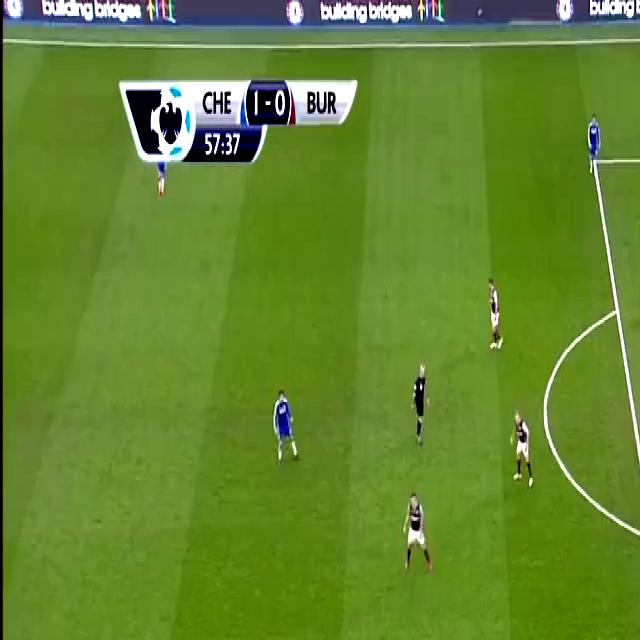referee: (408, 358, 432, 453)
soccer-player: (398, 486, 438, 582), (268, 377, 306, 471), (508, 406, 538, 497), (485, 273, 507, 361), (583, 107, 601, 169), (639, 423, 640, 514)
